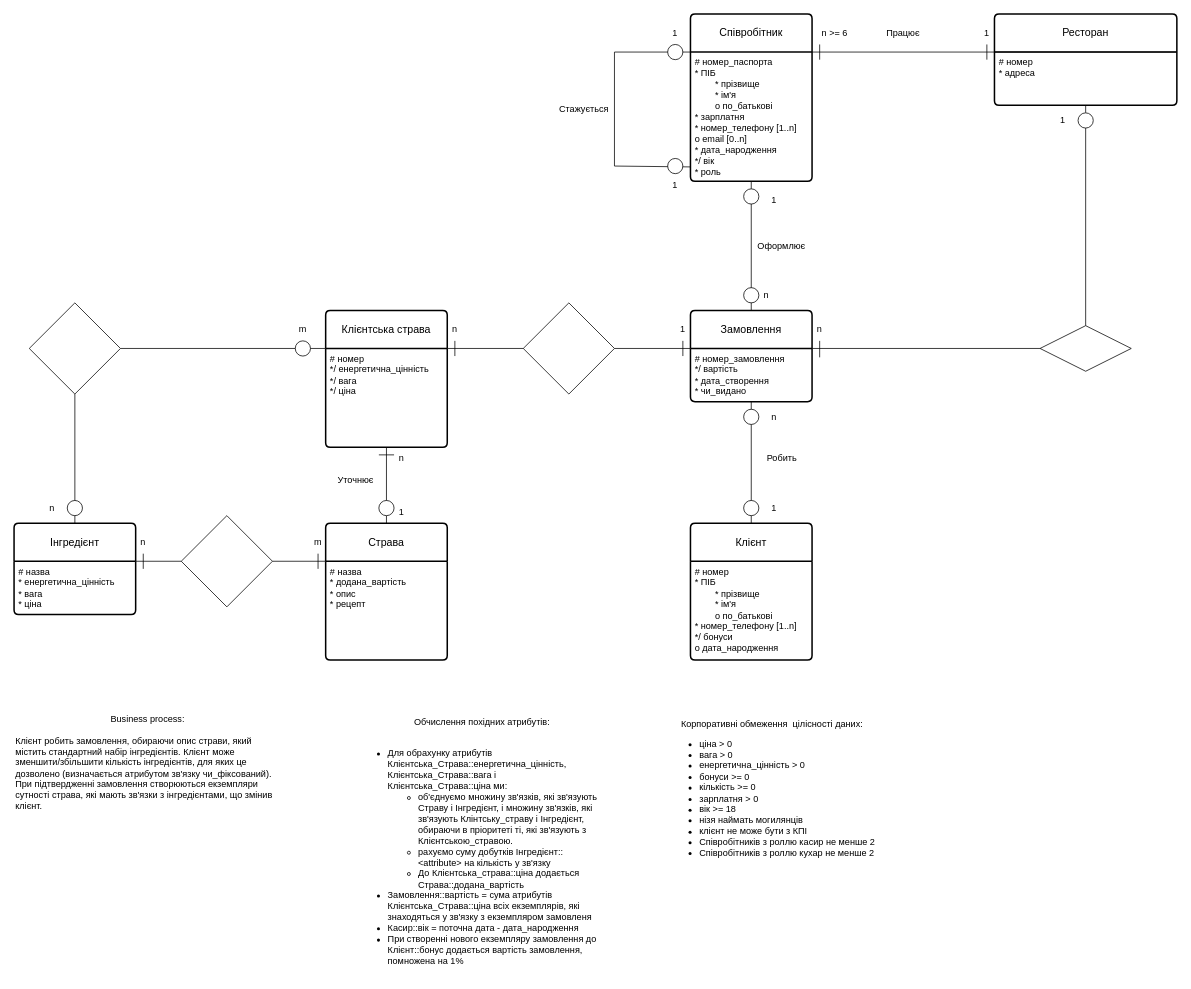
Image size: 1191x989. Some labels were removed from this diagram. Here are the shapes that lost their labels. From the top down, the centre of each, then its label:
At (74,348): "Додається * кількість".
At (568,348): "Складається * кількість".
At (1085,348): "Оформлено".
At (226,561): "Містить * кількість * чи_фіксований".
